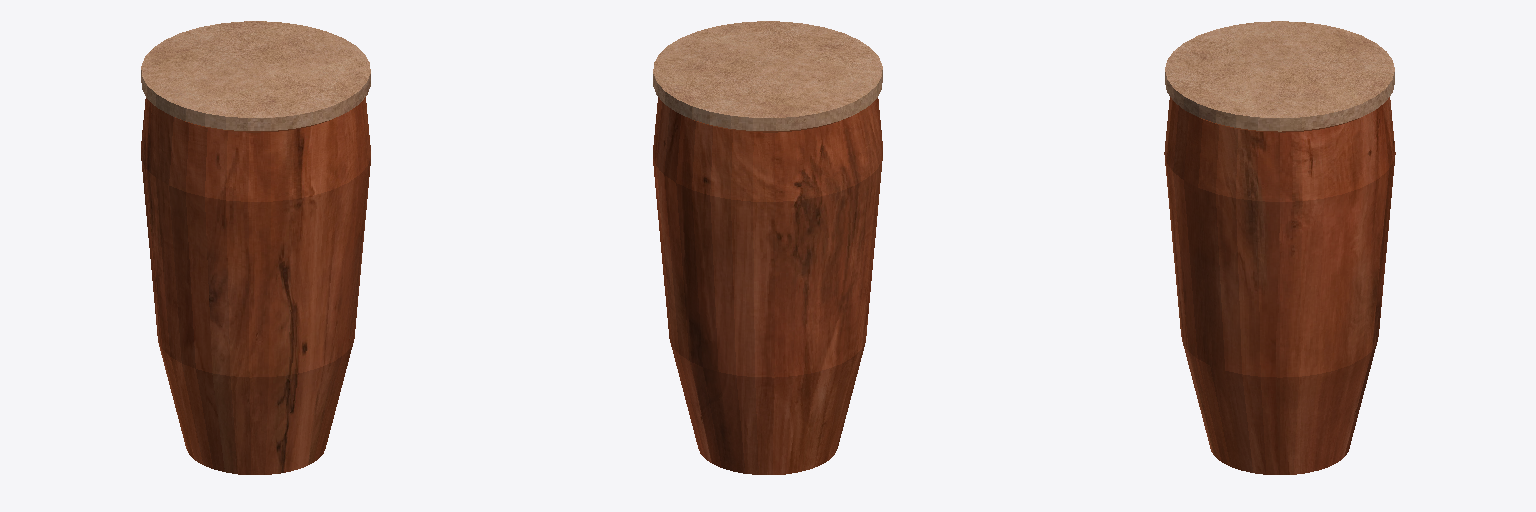
The picture shows the model from 3 angles: view 1: azimuth 30°, elevation 25°; view 2: azimuth 150°, elevation 25°; view 3: azimuth 270°, elevation 25°; orthographic projection.
Parts seen in each view (by area): view 1: Circle; view 2: Circle; view 3: Circle.
Boxes of the visible parts, x1,y1,x2,y2 form: Circle: [141, 21, 370, 474]; Circle: [653, 21, 882, 474]; Circle: [1164, 21, 1395, 474].
Size of the model in its own units: 2.25 by 4.07 by 2.25.
3 materials, 2 textured.